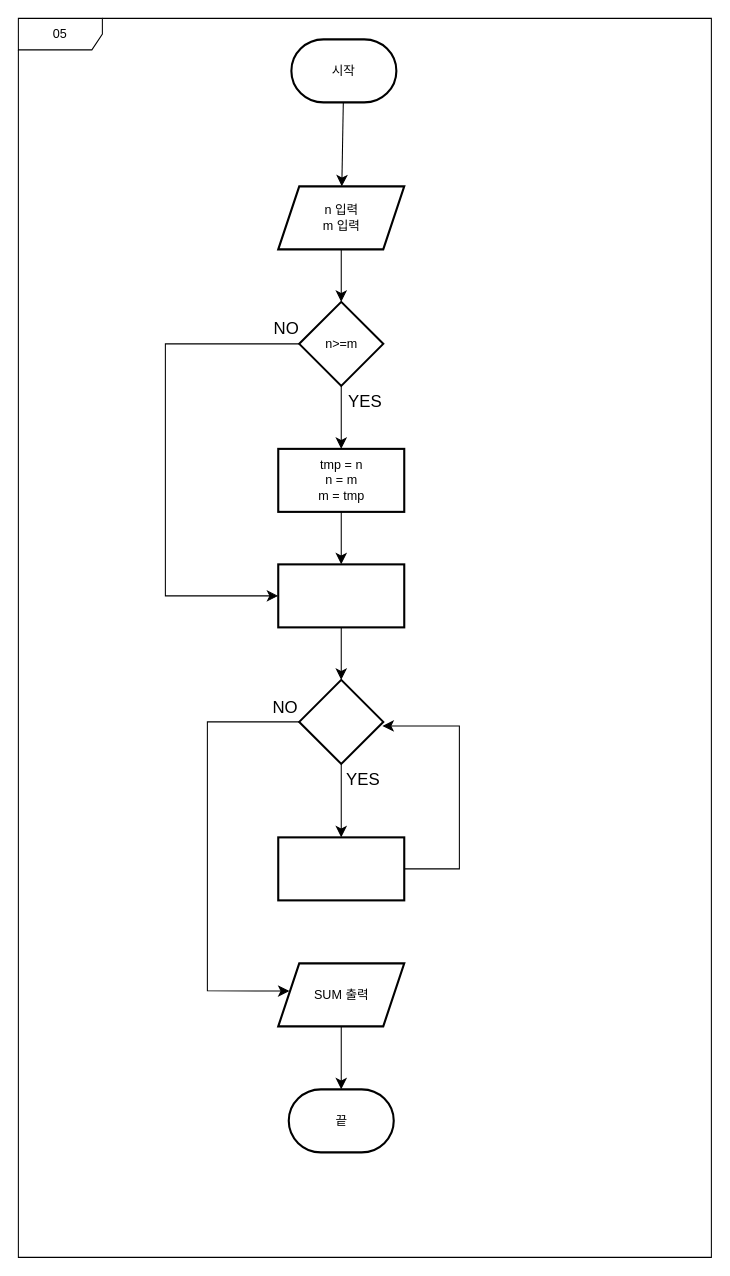
Image size: 730x1276. Some labels were removed from this diagram. Here are the shapes that lost their labels. From the top down, the centre of each, then its label:
the point at 341,595: i = n sum = 0
the point at 341,721: i<=m
the point at 341,868: sum += i i++
